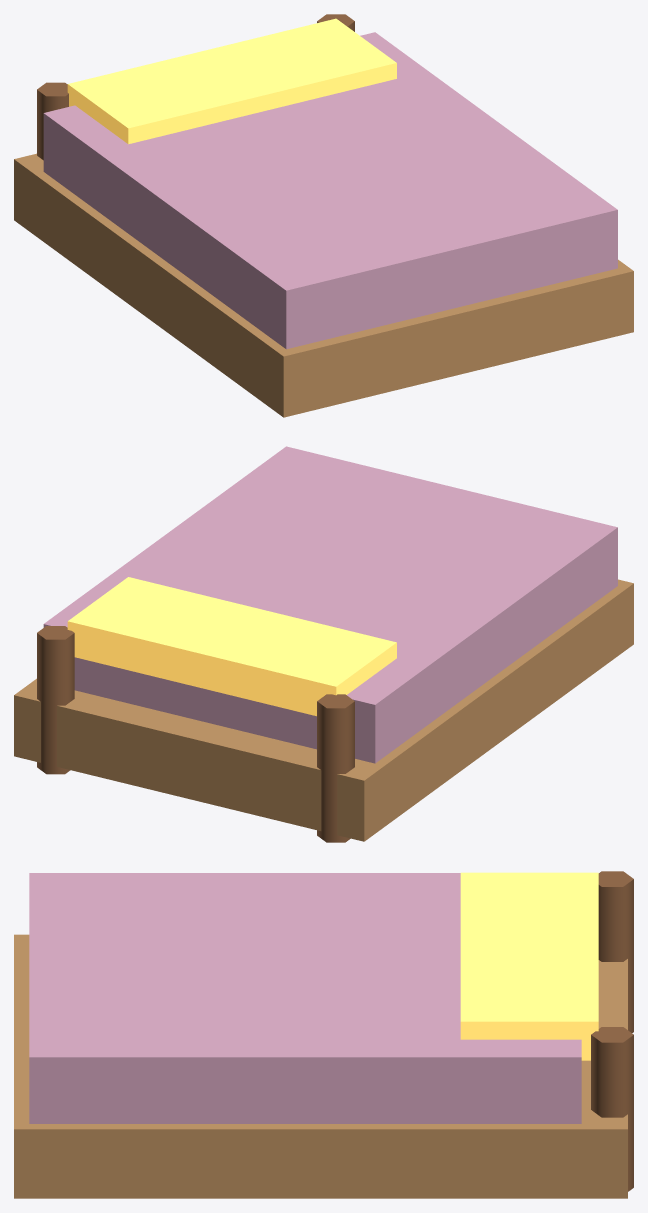
The model's file is bed.glb.
3 renders of one model, top to bottom at view 1: azimuth 30°, elevation 25°; view 2: azimuth 150°, elevation 25°; view 3: azimuth 270°, elevation 25°, orthographic. The views are drawn at different scales.
Bounding box in the file's own units: 1.5 × 0.585 × 2.02.
